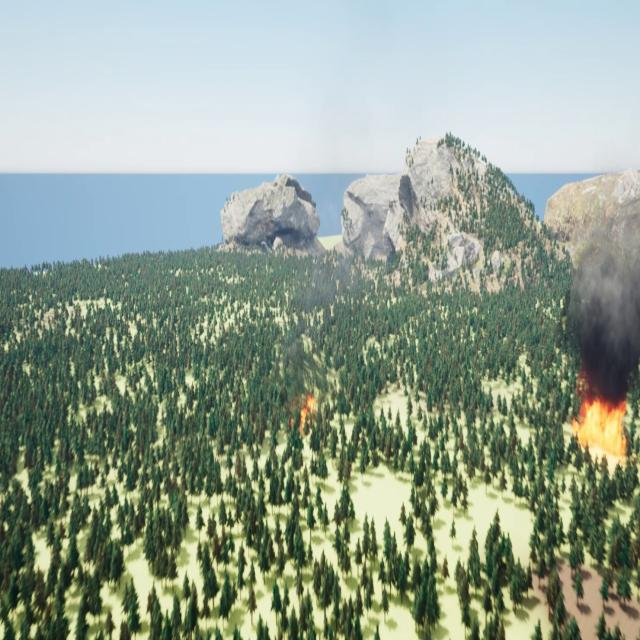fire: (572, 391, 628, 452), (286, 394, 318, 428)
smoke: (566, 221, 640, 399)
